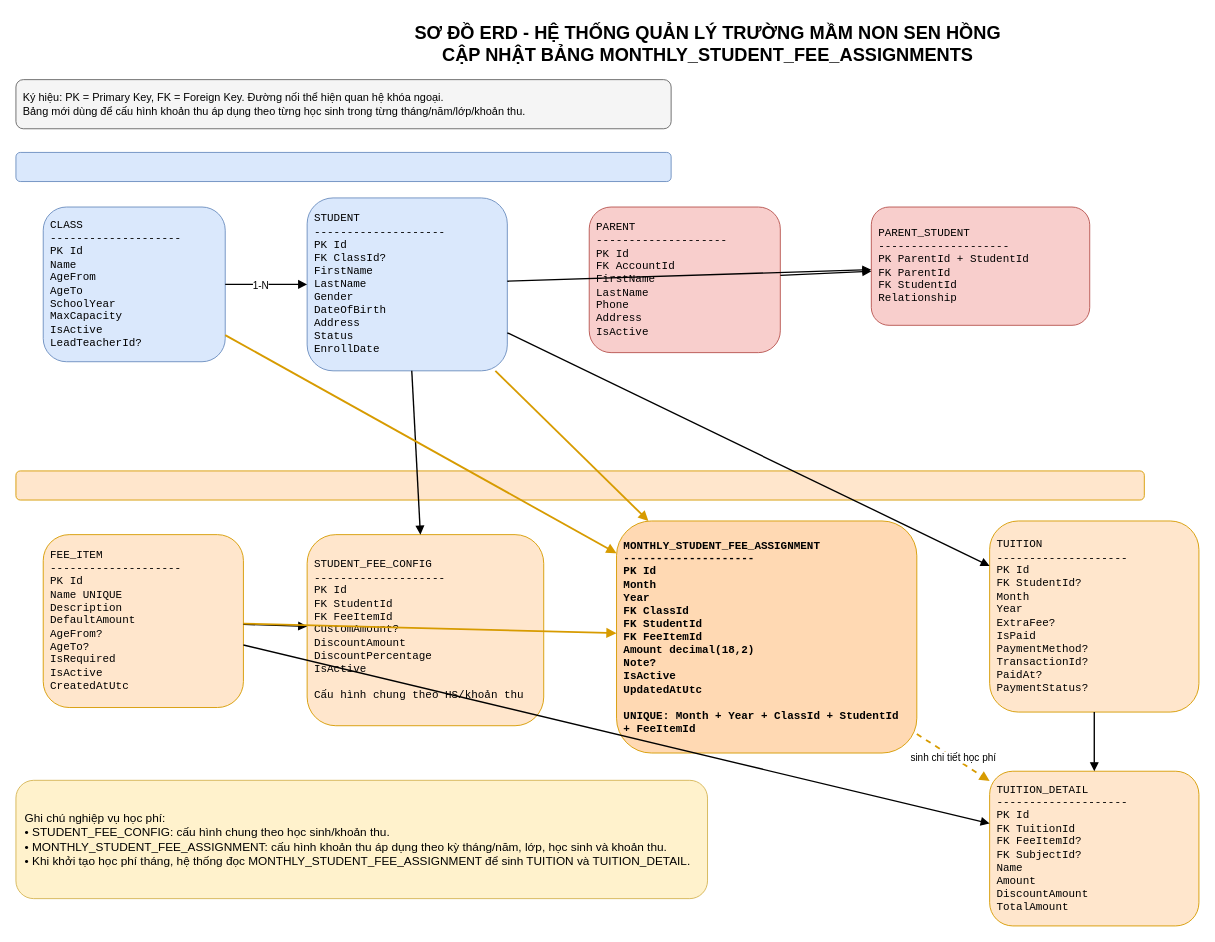
Some shapes in this 1215 by 942 pixel diagram are drawn without their labels. Each missing label, with the centre of its shape:
"HỌC PHÍ" belongs at (579,485).
"HỌC SINH - PHỤ HUYNH - LỚP" belongs at (343,167).
